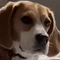Dog: (2, 5, 58, 55)
